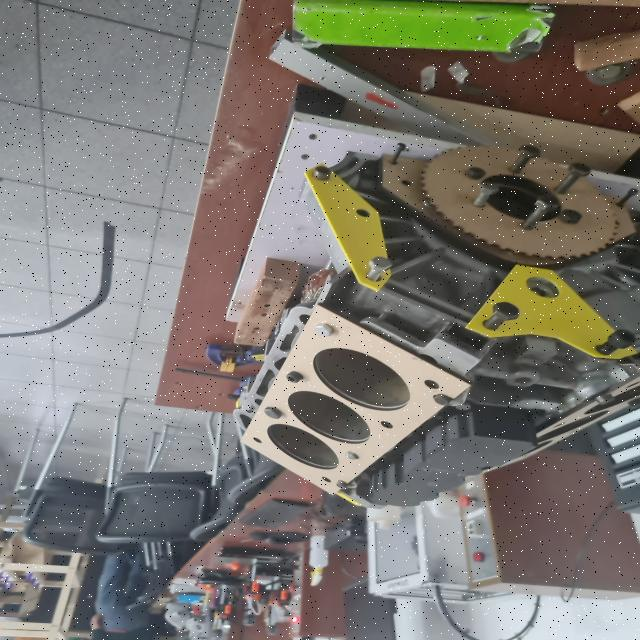vista1: (240, 306, 469, 494)
